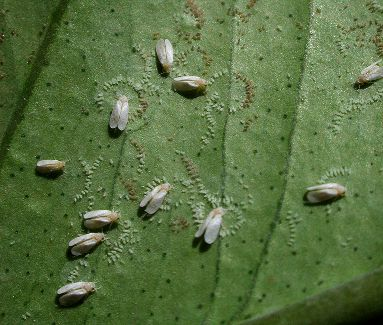whitefly: (194, 203, 228, 245), (139, 180, 173, 215), (56, 281, 98, 307), (351, 58, 383, 91), (107, 89, 132, 131), (304, 182, 348, 205), (69, 232, 107, 256), (82, 208, 123, 230), (153, 39, 176, 78), (172, 74, 208, 96), (34, 158, 67, 174)
